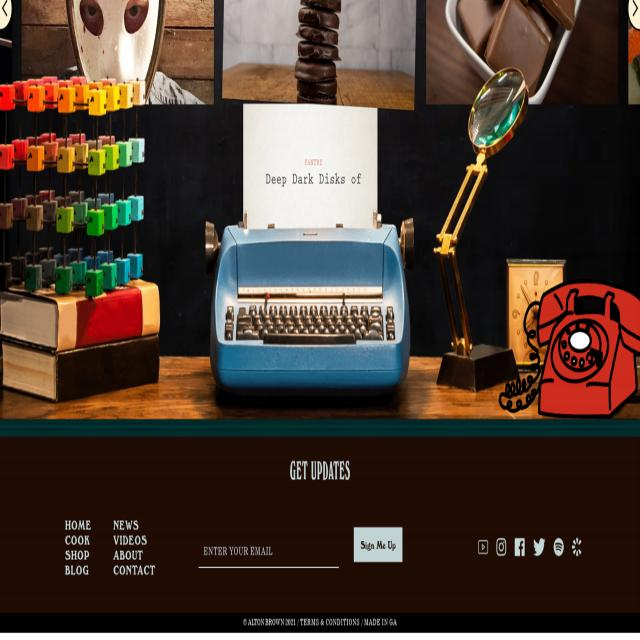button: (426, 0, 618, 114), (22, 0, 214, 104), (222, 0, 414, 98), (354, 528, 403, 562), (627, 2, 640, 102), (627, 0, 640, 29), (0, 0, 12, 31), (533, 538, 545, 556), (496, 538, 506, 556), (515, 538, 525, 556), (554, 538, 564, 556), (478, 538, 488, 556), (572, 538, 581, 556)
field: (199, 536, 339, 568)
